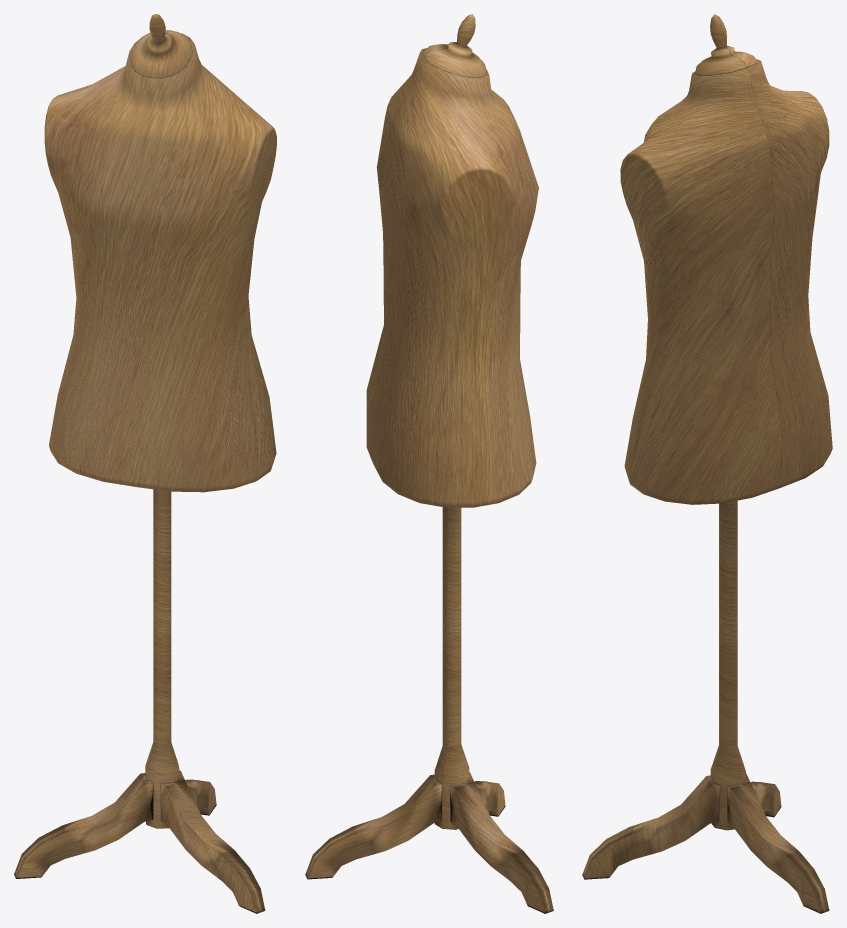
The model's file is Manocanh (6.25, 4.1, 0.3).glb.
3 renders of one model, left to right at view 1: azimuth 30°, elevation 25°; view 2: azimuth 150°, elevation 25°; view 3: azimuth 270°, elevation 25°, orthographic.
Visible parts, largest first — view 1: Dress.007; view 2: Dress.007; view 3: Dress.007.
Part boxes in pixels (<box>): Dress.007: <box>14,14,276,913</box>; Dress.007: <box>305,14,553,913</box>; Dress.007: <box>582,14,832,913</box>.
Size of the model in its own units: 0.509 by 1.85 by 0.4972.
Materials: 1 (1 with a texture image).
